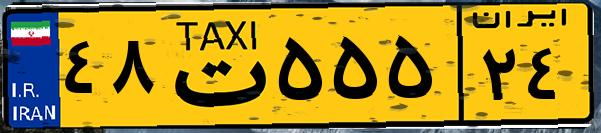2: (475, 38, 525, 113)
4: (57, 26, 110, 100), (525, 38, 570, 115)
5: (270, 28, 330, 110), (385, 28, 445, 110), (330, 28, 385, 110)
8: (110, 28, 158, 98)
ت: (158, 12, 270, 120)
